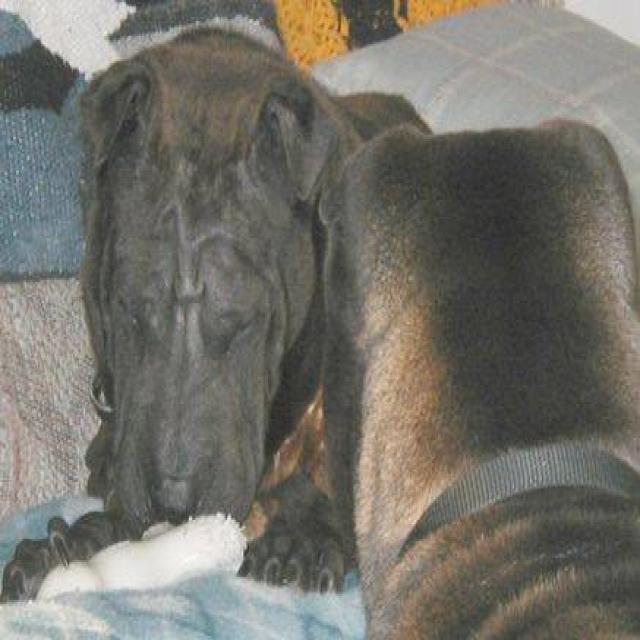cat: (11, 26, 465, 614), (293, 82, 640, 639)
